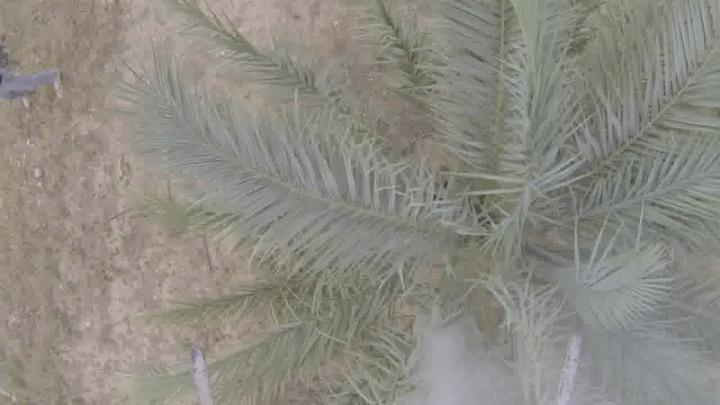Date-Palm-Crown: (291, 0, 704, 404)
